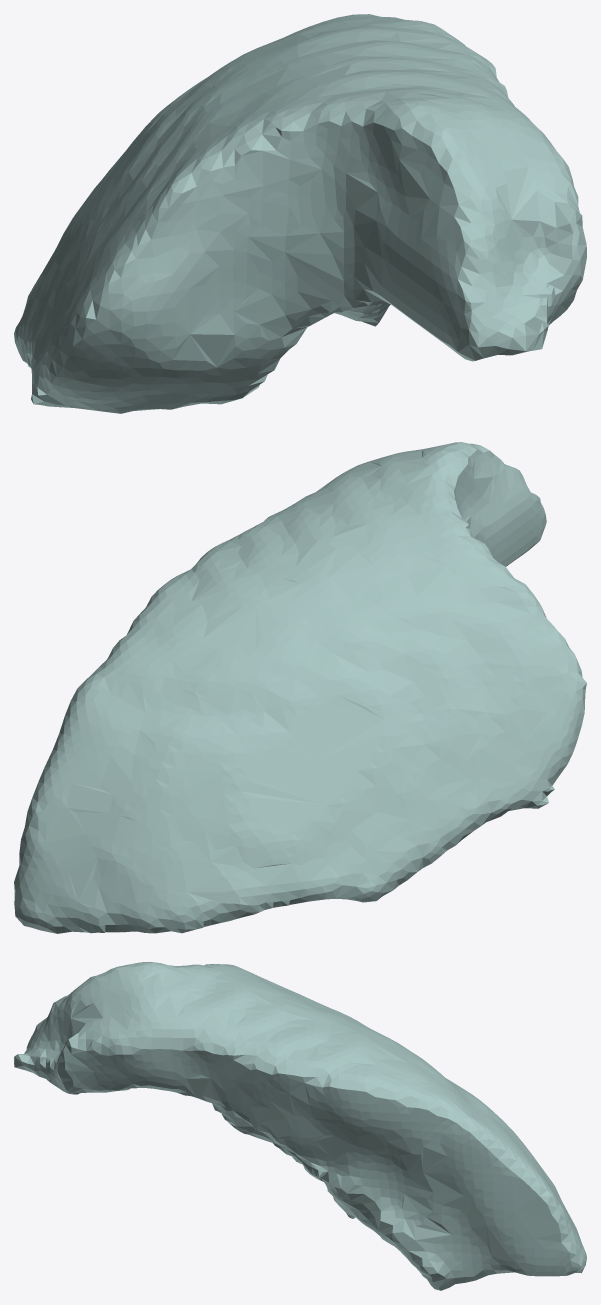
File: Model_10139_LH__Temporopolar_proisocortex_(TPPro).obj
The picture shows the model from 3 angles, top to bottom: view 1: azimuth 30°, elevation 25°; view 2: azimuth 150°, elevation 25°; view 3: azimuth 270°, elevation 25°; orthographic projection. The views are drawn at different scales.
Bounding box in the file's own units: 3.29 × 2.86 × 5.57.
